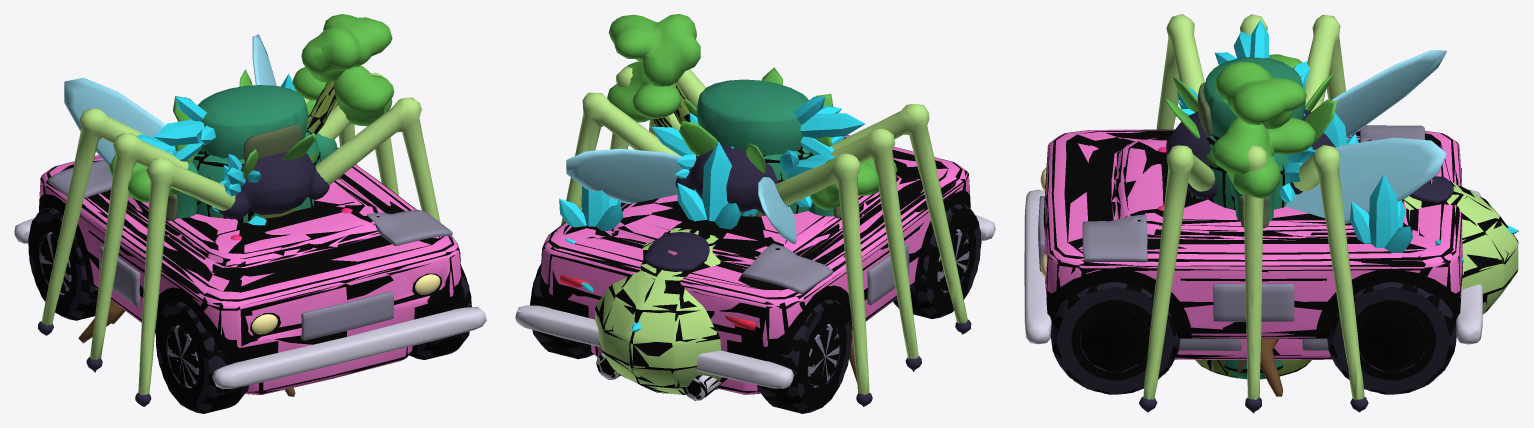
File: chimera_hd.glb
3 renders of one model, left to right at view 1: azimuth 30°, elevation 25°; view 2: azimuth 150°, elevation 25°; view 3: azimuth 270°, elevation 25°, orthographic. The views are drawn at different scales.
Parts seen in each view (by area): view 1: hd_legs_car_hull, hd_legs_car_hull_ink, hd_legs_car_bumpers, hd_legs_car_mut_armor_14, hd_legs_mite_legL2_seg, hd_legs_person_pelvis, hd_legs_mite_legR2_seg, hd_legs_mite_legL1_seg, hd_legs_mite_legL0_seg, hd_legs_mite_thorax, hd_body_sapling_leaves2, hd_legs_car_wheelLF_tire_ink (+25 smaller); view 2: hd_legs_car_hull, hd_legs_car_hull_ink, hd_body_mite_body, hd_legs_person_pelvis, hd_legs_mite_legL0_seg, hd_body_mite_wing1, hd_legs_car_bumpers, hd_body_sapling_leaves2, hd_legs_mite_legL2_seg, hd_legs_mite_legL1_seg, hd_body_mite_body_ink, hd_legs_car_mut_armor_14 (+26 smaller); view 3: hd_legs_car_hull, hd_legs_car_hull_ink, hd_legs_car_mut_armor_14, hd_body_mite_wing1, hd_legs_mite_legR2_seg, hd_legs_mite_legR0_seg, hd_body_sapling_leaves1, hd_legs_car_wheelRB_tire, hd_legs_car_wheelRF_tire, hd_legs_car_bumpers, hd_body_mite_body, hd_body_sapling_leaves2 (+24 smaller).
Part boxes in pixels (box(x1,y1,x2,y2)): hd_legs_car_hull: box(39, 155, 461, 352); hd_legs_car_hull_ink: box(39, 155, 461, 363); hd_legs_car_bumpers: box(14, 218, 486, 388); hd_legs_car_mut_armor_14: box(48, 160, 452, 340); hd_legs_mite_legL2_seg: box(138, 158, 235, 395); hd_legs_person_pelvis: box(197, 85, 308, 159); hd_legs_mite_legR2_seg: box(315, 97, 440, 222); hd_legs_mite_legL1_seg: box(90, 133, 188, 359); hd_legs_mite_legL0_seg: box(41, 108, 146, 325); hd_legs_mite_thorax: box(218, 151, 329, 219); hd_body_sapling_leaves2: box(301, 14, 392, 82); hd_legs_car_wheelLF_tire_ink: box(155, 301, 245, 413); hd_legs_car_hull: box(541, 135, 969, 351); hd_legs_car_hull_ink: box(540, 135, 970, 363); hd_body_mite_body: box(595, 228, 722, 394); hd_legs_person_pelvis: box(696, 79, 808, 155); hd_legs_mite_legL0_seg: box(775, 153, 869, 394); hd_body_mite_wing1: box(566, 148, 682, 203); hd_legs_car_bumpers: box(515, 215, 995, 388); hd_body_sapling_leaves2: box(608, 14, 700, 86); hd_legs_mite_legL2_seg: box(831, 103, 967, 323); hd_legs_mite_legL1_seg: box(830, 128, 918, 358); hd_body_mite_body_ink: box(595, 218, 732, 394); hd_legs_car_mut_armor_14: box(742, 243, 909, 305); hd_legs_car_hull: box(1043, 129, 1462, 338); hd_legs_car_hull_ink: box(1043, 129, 1462, 338); hd_legs_car_mut_armor_14: box(1038, 125, 1424, 321); hd_body_mite_wing1: box(1285, 137, 1446, 223); hd_legs_mite_legR2_seg: box(1143, 145, 1215, 399); hd_legs_mite_legR0_seg: box(1293, 145, 1364, 399); hd_body_sapling_leaves1: box(1211, 117, 1316, 198); hd_legs_car_wheelRB_tire: box(1327, 282, 1456, 394); hd_legs_car_wheelRF_tire: box(1050, 282, 1180, 394); hd_legs_car_bumpers: box(1024, 189, 1482, 344); hd_body_mite_body: box(1404, 182, 1518, 313); hd_body_sapling_leaves2: box(1215, 61, 1306, 129).
Bounding box in the file's own units: 1 × 0.936 × 1.22.
